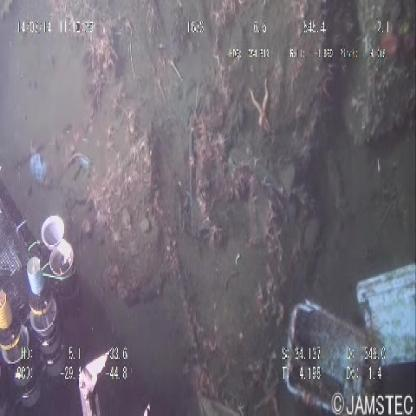Rov: (1, 140, 158, 416)
Rác: (272, 252, 416, 416)
